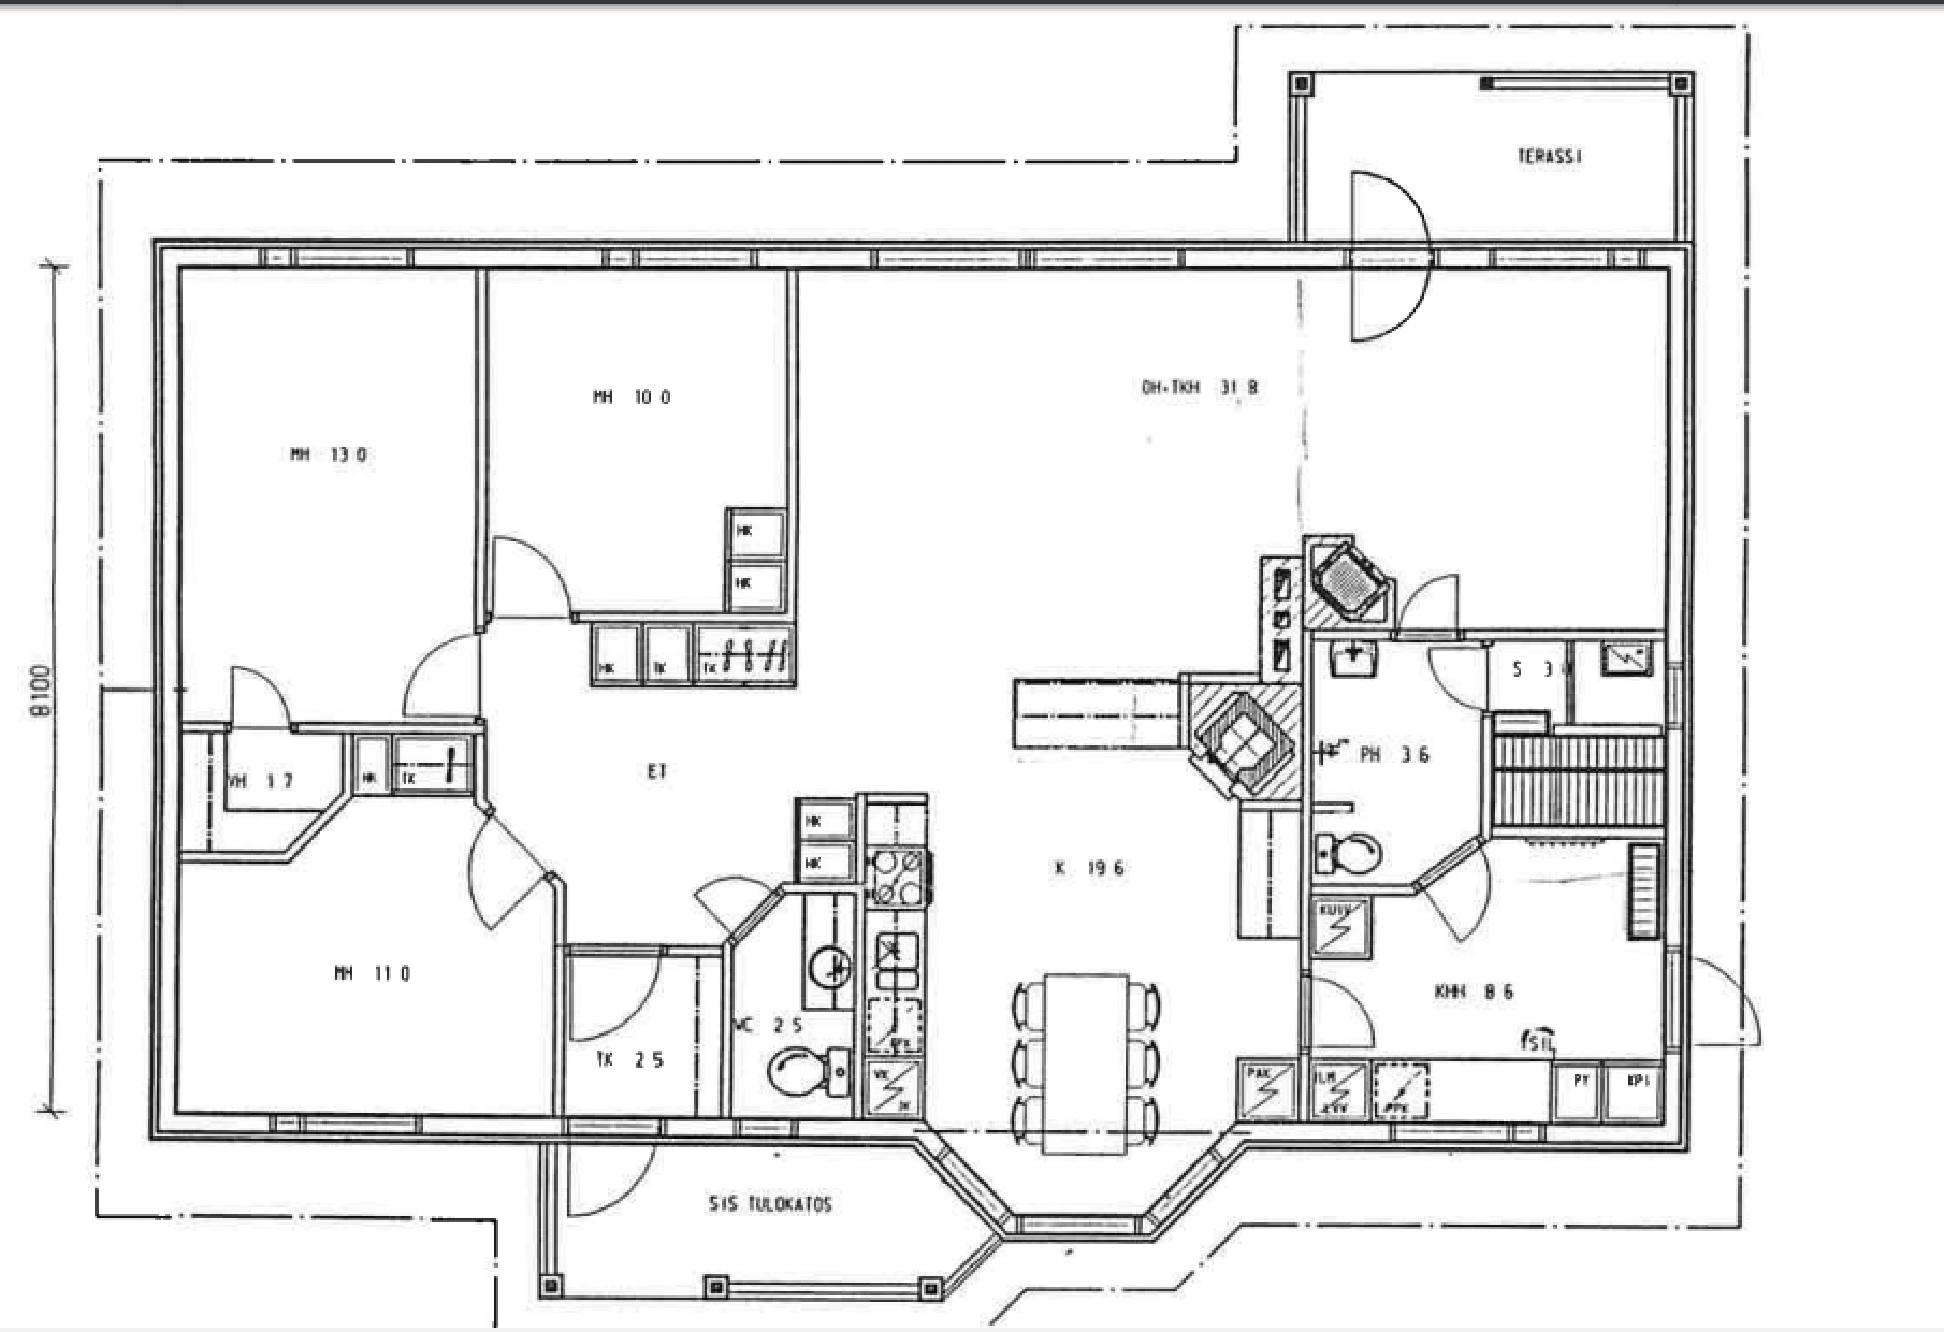door: (476, 257, 1660, 1204), (183, 266, 479, 727), (182, 793, 558, 1116), (490, 267, 790, 610), (486, 272, 786, 604), (1313, 837, 1663, 1116), (555, 1142, 997, 1305), (1306, 78, 1675, 233), (1307, 636, 1502, 888), (1492, 636, 1659, 828), (722, 890, 855, 1119), (555, 948, 725, 1116), (179, 724, 360, 864), (360, 732, 483, 796)
window: (1347, 164, 1430, 344), (1662, 938, 1762, 1057), (459, 814, 555, 930), (563, 1119, 665, 1217), (1417, 837, 1499, 950), (564, 947, 665, 1037), (487, 538, 576, 623), (402, 631, 485, 718), (1296, 972, 1383, 1050), (690, 879, 778, 941), (1423, 644, 1499, 713), (1394, 573, 1465, 644), (227, 667, 292, 740)
zone: (876, 244, 1183, 273), (1139, 1153, 1229, 1227), (929, 1150, 1012, 1230), (264, 244, 409, 272), (1495, 247, 1643, 273), (606, 244, 750, 270), (272, 1108, 422, 1133), (1019, 1211, 1130, 1240), (1396, 1122, 1547, 1142), (733, 1116, 790, 1137)
